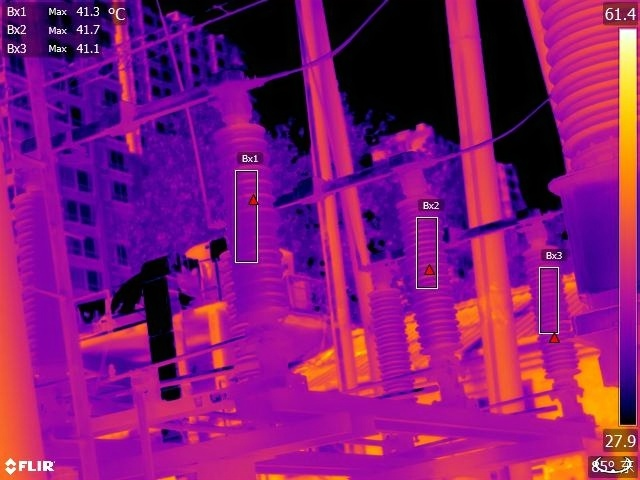post insulator: (206, 111, 296, 323), (398, 189, 463, 358), (14, 191, 73, 376), (525, 243, 583, 384), (371, 281, 412, 391)
switch: (18, 63, 261, 184), (364, 201, 546, 289), (274, 134, 432, 207)
transformer: (532, 1, 640, 307)
